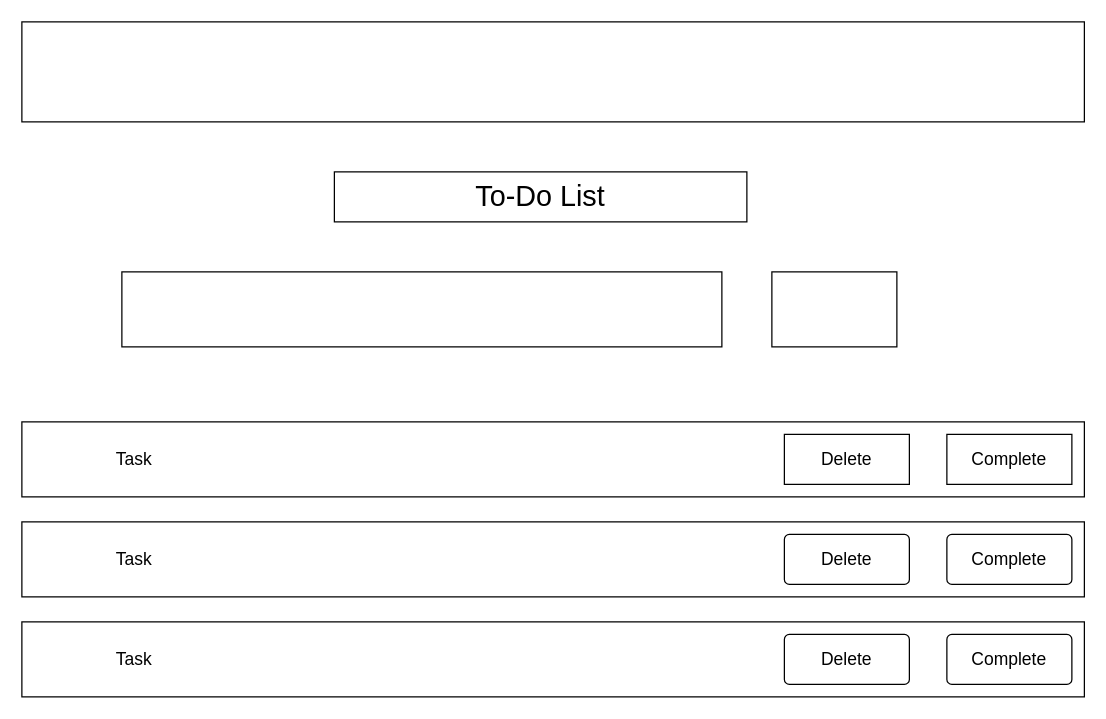
This 1106x719 diagram has some shape labels left out. Here are the shapes that lost their labels. From the top down, the centre of each, then its label:
At pixel 552 71: "Navigation Bar".
At pixel 421 309: "Enter in Your Task".
At pixel 834 309: "Add".
